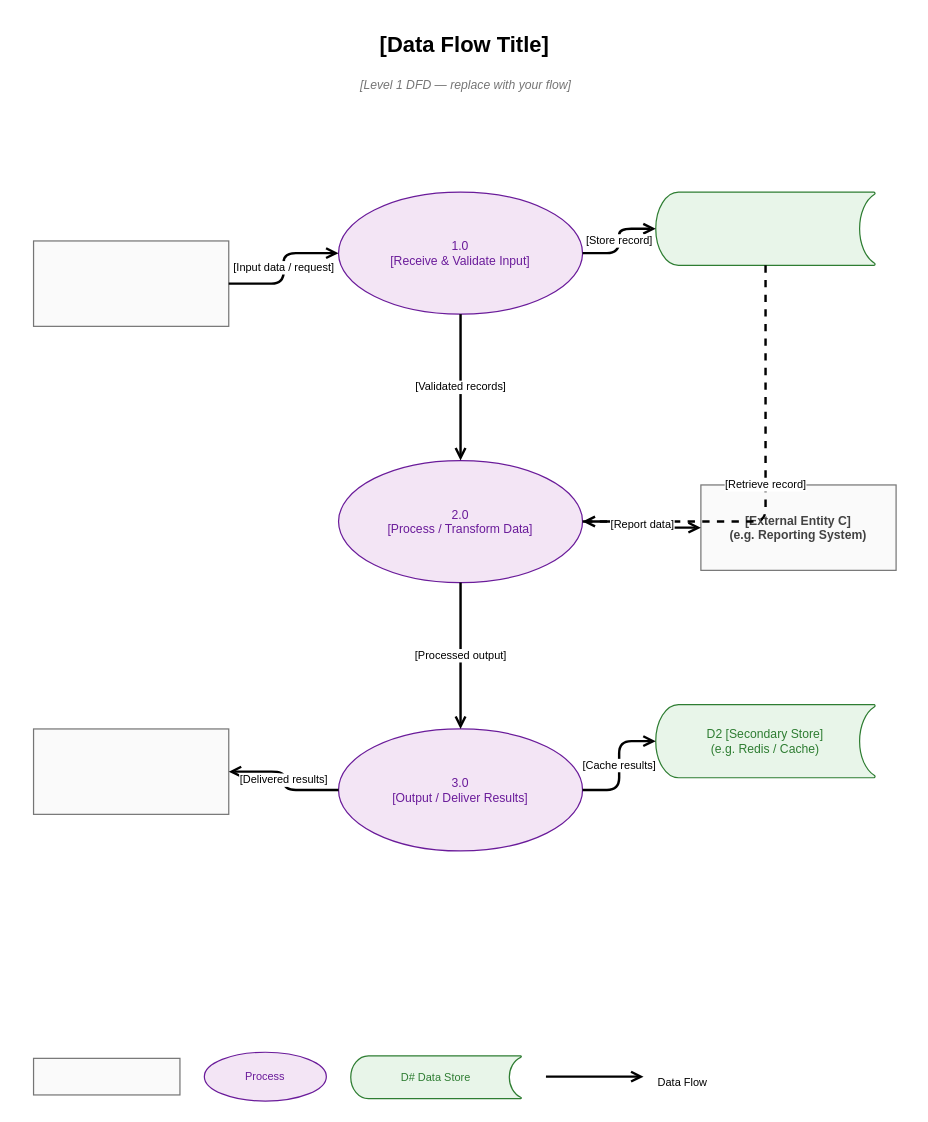
This 928x1122 diagram has some shape labels left out. Here are the shapes that lost their labels. From the top down, the centre of each, then its label:
the point at 765,228: D1 [Primary Data Store] (e.g. PostgreSQL / CIM)
the point at 130,283: [External Entity A] (e.g. Customer / Channel)
the point at 130,771: [External Entity B] (e.g. CRM / 3rd-Party)
the point at 106,1076: External Entity
